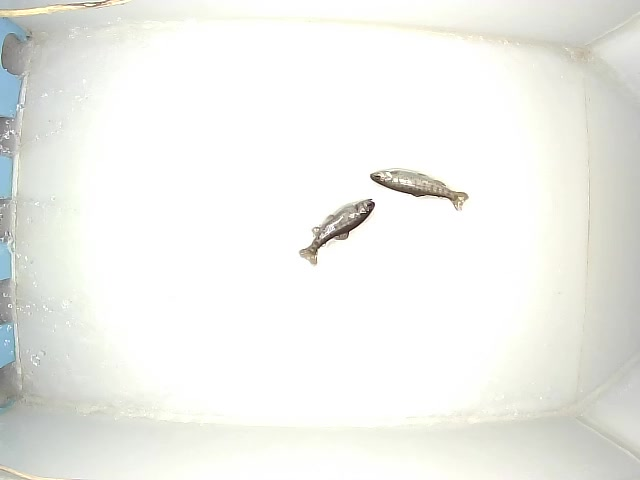fish: (298, 198, 376, 267), (369, 168, 471, 212)
